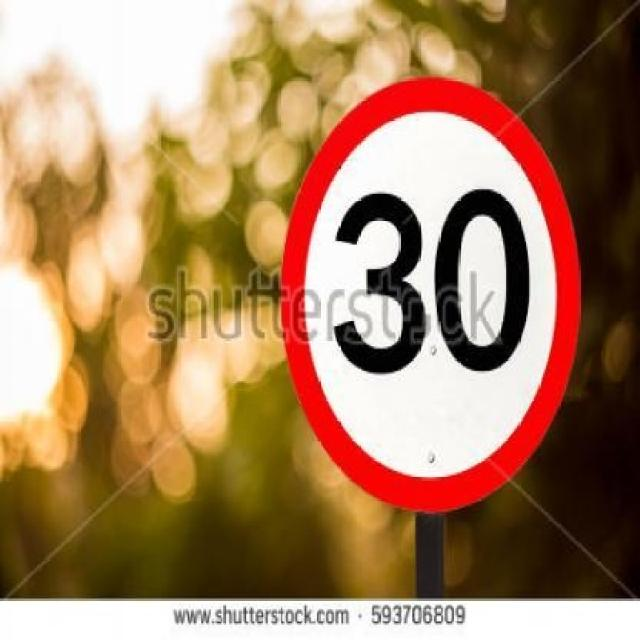forb_speed_over_30: (285, 78, 568, 509)
